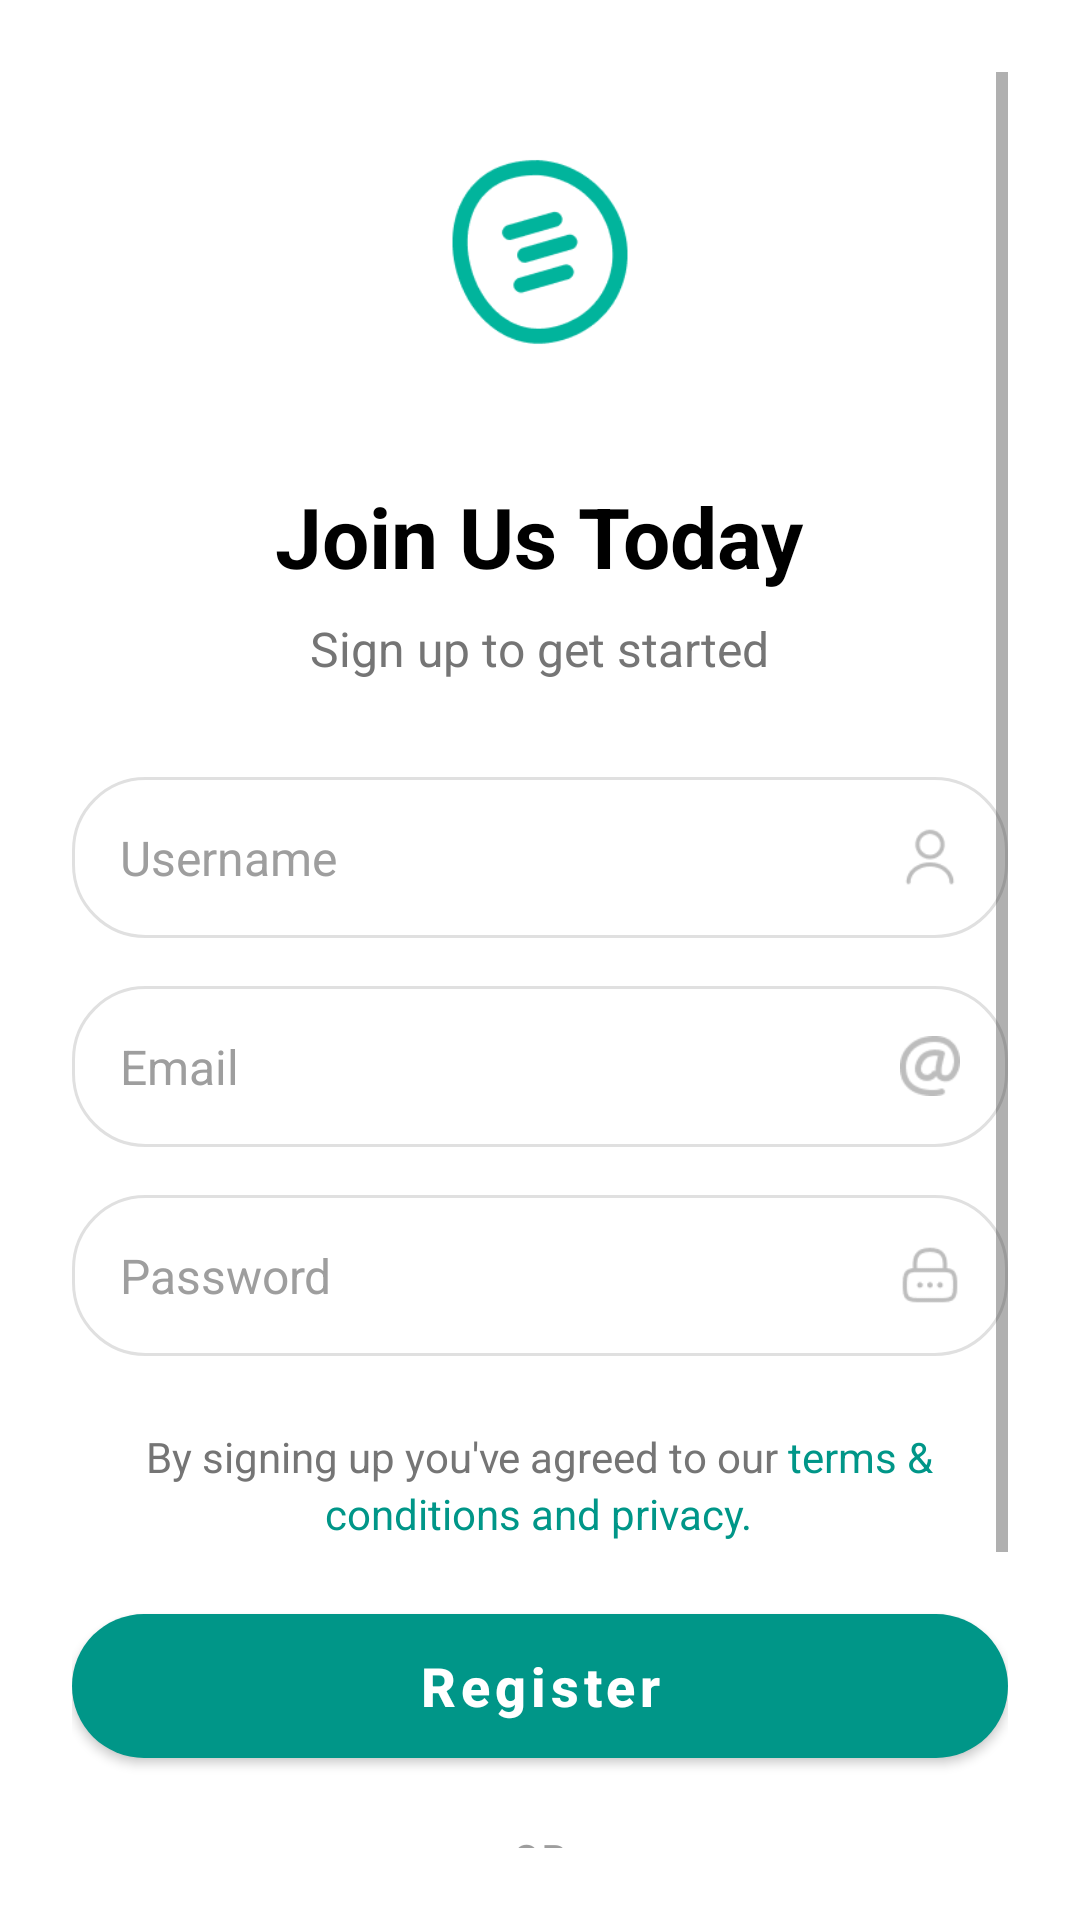

Icons on this 1080px x 1920px Android screen, each with its box as (x1, y1, x2, y2):
Lock Icon: (903, 1248, 957, 1302)
User Icon: (906, 830, 954, 884)
